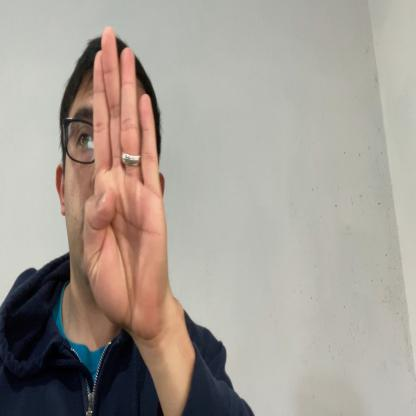B: (84, 26, 169, 338)
